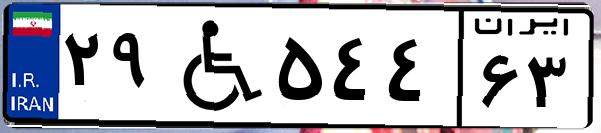2: (57, 26, 110, 100)
3: (525, 38, 570, 115)
4: (385, 28, 445, 110), (330, 28, 385, 110)
5: (270, 28, 330, 110)
6: (475, 38, 525, 113)
9: (110, 28, 158, 98)
ژ (معلولین و جانبازان): (158, 12, 270, 120)
